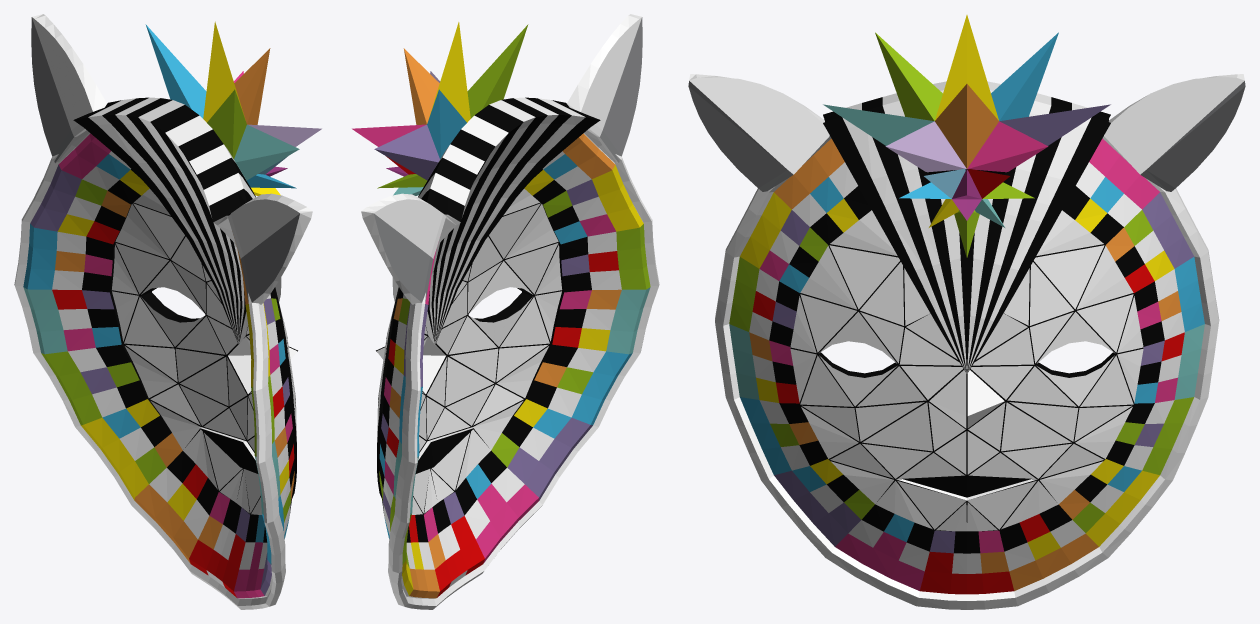
Rendered from MASCARA.fbx.
3 views of the same model, side by side, from view 1: azimuth 30°, elevation 25°; view 2: azimuth 150°, elevation 25°; view 3: azimuth 270°, elevation 25° (orthographic). The views are drawn at different scales.
Parts seen in each view (by area): view 1: MASCARA; view 2: MASCARA; view 3: MASCARA.
Boxes of the visible parts, left/top/right/bottom form: MASCARA: left=14, top=14, right=321, bottom=609; MASCARA: left=352, top=14, right=659, bottom=609; MASCARA: left=688, top=15, right=1245, bottom=609.
Bounding box in the file's own units: 9.63 × 30.79 × 26.32.
1 material, 1 textured.
